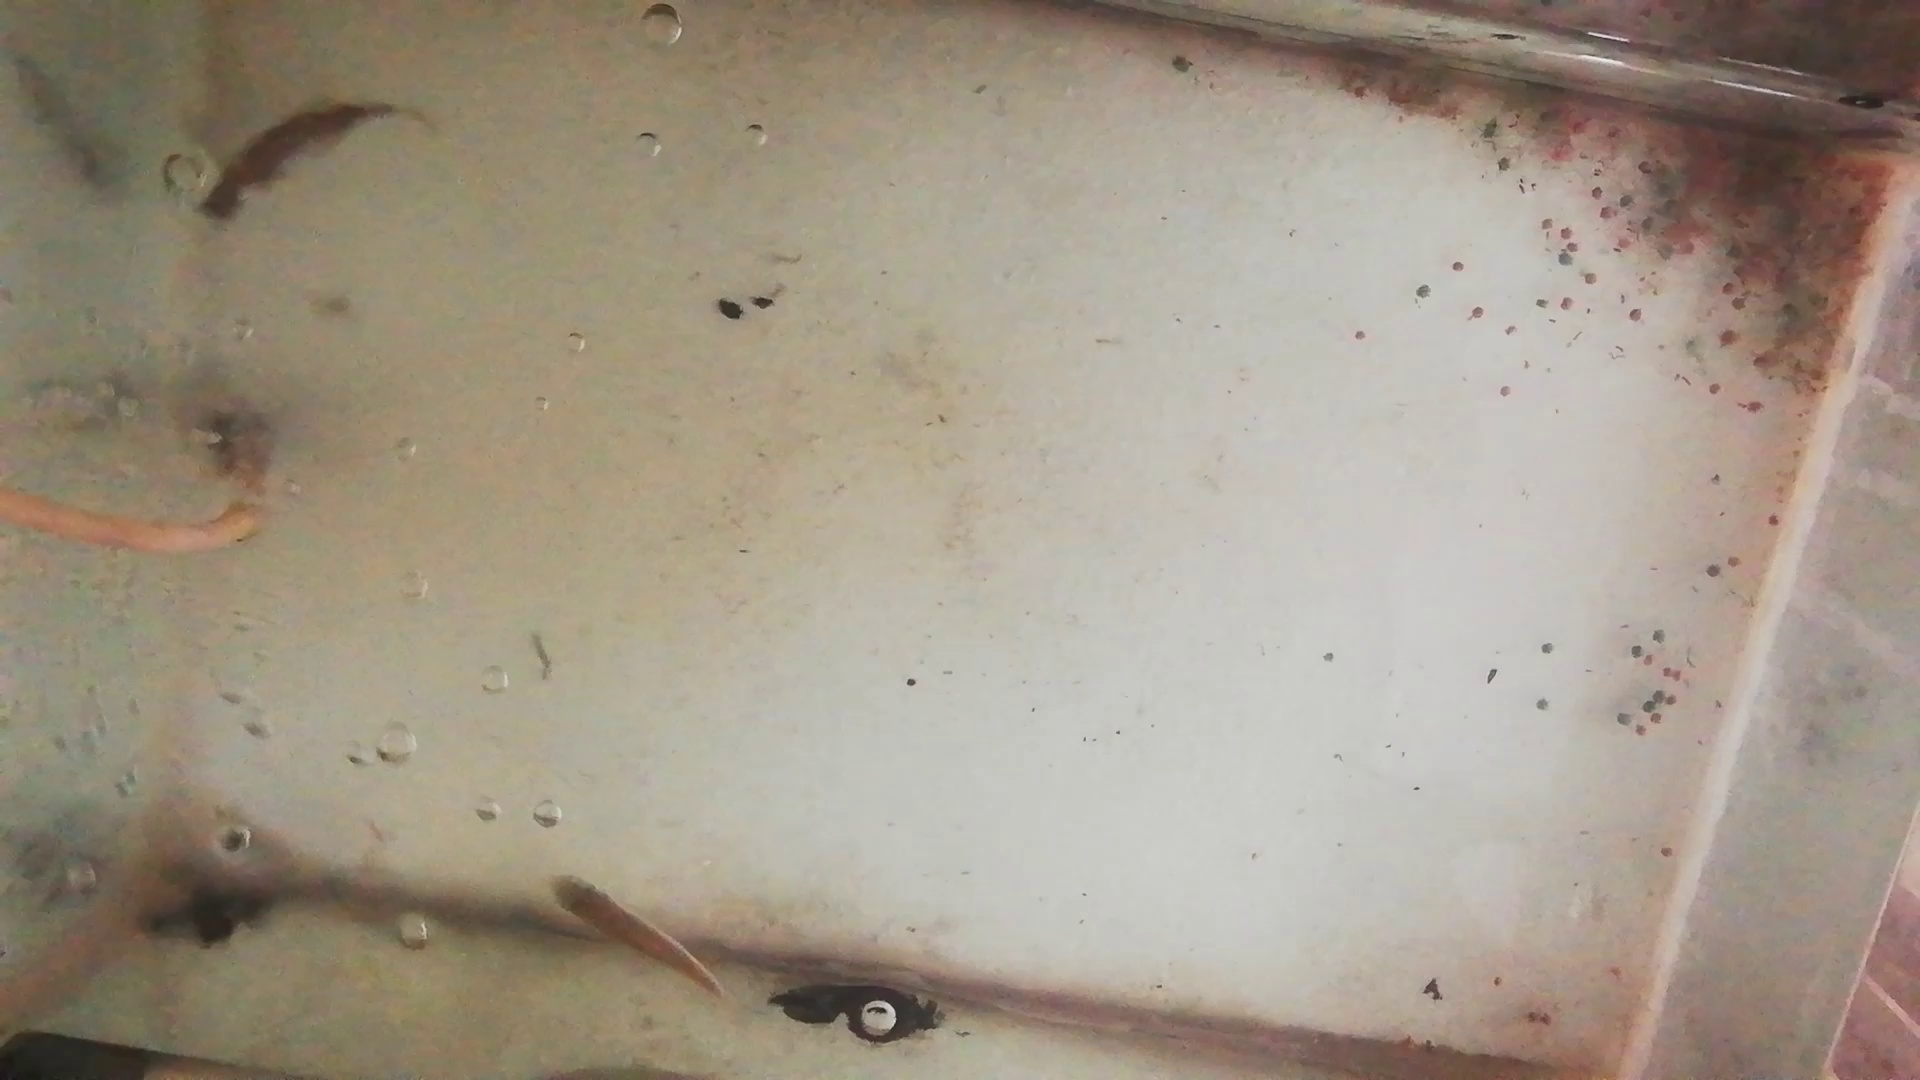fish: (190, 102, 404, 227), (549, 874, 717, 998)
